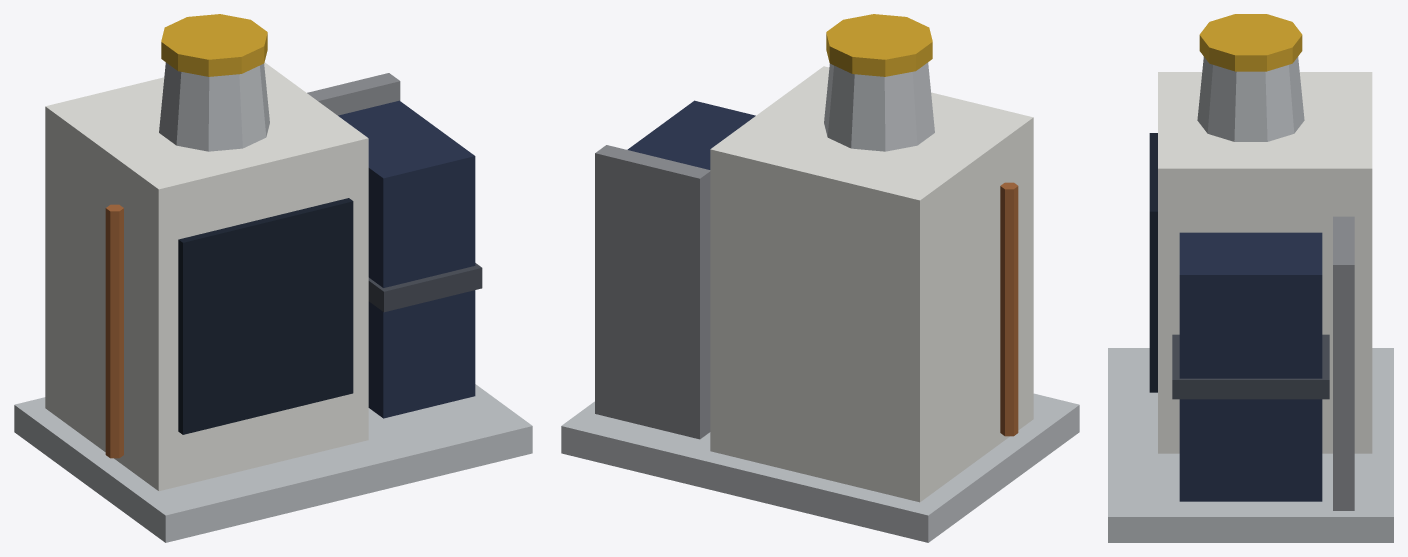
Rendered from hab-veggie-rad-astrorad.glb.
The picture shows the model from 3 angles, left to right: view 1: azimuth 30°, elevation 25°; view 2: azimuth 150°, elevation 25°; view 3: azimuth 270°, elevation 25°; orthographic projection. The views are drawn at different scales.
Visible parts, largest first — view 1: HabVeggieRadAstroRad_Hull, HabVeggieRadAstroRad_Aluminum, HabVeggieRadAstroRad_Visor, HabVeggieRadAstroRad_Pack, HabVeggieRadAstroRad_FoilGold, HabVeggieRadAstroRad_Copper, HabVeggieRadAstroRad_Strap, HabVeggieRadAstroRad_Titanium; view 2: HabVeggieRadAstroRad_Hull, HabVeggieRadAstroRad_Titanium, HabVeggieRadAstroRad_Aluminum, HabVeggieRadAstroRad_FoilGold, HabVeggieRadAstroRad_Copper, HabVeggieRadAstroRad_Pack; view 3: HabVeggieRadAstroRad_Hull, HabVeggieRadAstroRad_Pack, HabVeggieRadAstroRad_Aluminum, HabVeggieRadAstroRad_Titanium, HabVeggieRadAstroRad_FoilGold, HabVeggieRadAstroRad_Strap, HabVeggieRadAstroRad_Visor.
Boxes of the visible parts, x1,y1,x2,y2 form: HabVeggieRadAstroRad_Hull: (45,62,368,491); HabVeggieRadAstroRad_Aluminum: (14,62,532,542); HabVeggieRadAstroRad_Visor: (178,198,353,434); HabVeggieRadAstroRad_Pack: (338,100,475,418); HabVeggieRadAstroRad_FoilGold: (161,14,267,76); HabVeggieRadAstroRad_Copper: (105,204,123,458); HabVeggieRadAstroRad_Strap: (368,263,482,312); HabVeggieRadAstroRad_Titanium: (307,73,400,115); HabVeggieRadAstroRad_Hull: (710,66,1033,502); HabVeggieRadAstroRad_Titanium: (595,145,710,439); HabVeggieRadAstroRad_Aluminum: (561,62,1079,542); HabVeggieRadAstroRad_FoilGold: (826,14,932,76); HabVeggieRadAstroRad_Copper: (1000,182,1018,436); HabVeggieRadAstroRad_Pack: (627,100,755,169); HabVeggieRadAstroRad_Hull: (1158,72,1372,453); HabVeggieRadAstroRad_Pack: (1179,232,1322,501); HabVeggieRadAstroRad_Aluminum: (1108,56,1393,542); HabVeggieRadAstroRad_Titanium: (1333,216,1354,510); HabVeggieRadAstroRad_FoilGold: (1199,14,1302,71); HabVeggieRadAstroRad_Strap: (1172,334,1329,399); HabVeggieRadAstroRad_Visor: (1149,133,1157,392).
Bounding box in the file's own units: 0.56 × 0.6125 × 0.4.
